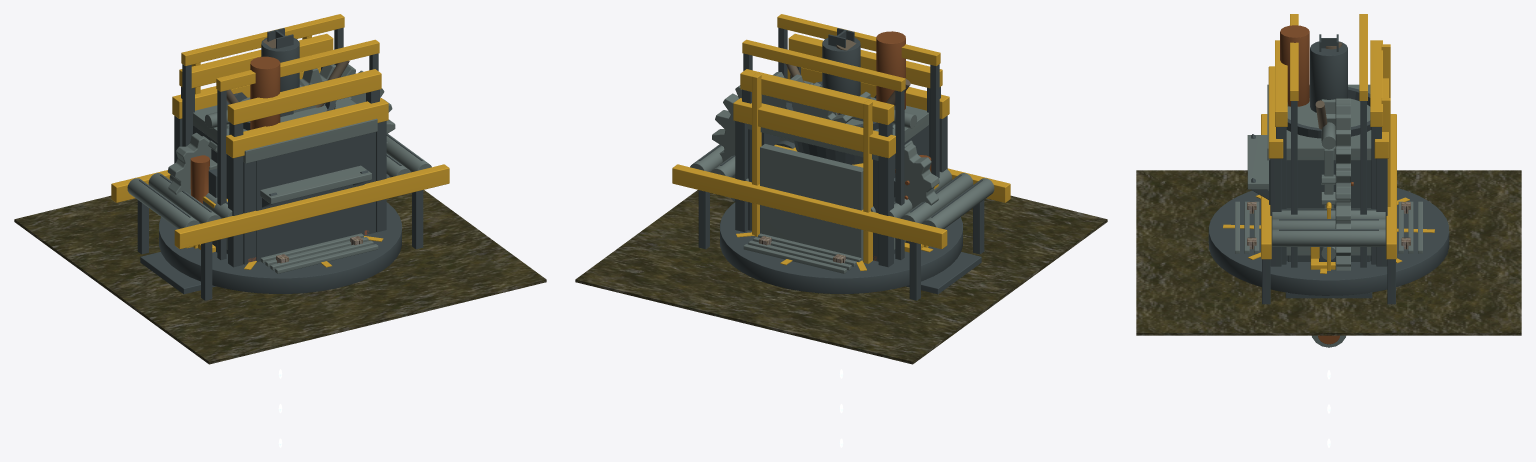
Rendered from factory_props.glb.
3 views of the same model, side by side, from view 1: azimuth 30°, elevation 25°; view 2: azimuth 150°, elevation 25°; view 3: azimuth 270°, elevation 25° (orthographic).
Parts seen in each view (by area): view 1: p_fac_water, p_fac_furnace, p_fac_conveyor, p_fac_platform:0, p_fac_ladle, p_fac_press, p_fac_hoist, p_fac_walkway, p_fac_stairs, p_fac_gear_pair, p_fac_conveyor:0, p_fac_gear_pair:1 (+4 smaller); view 2: p_fac_water, p_fac_conveyor, p_fac_ladle, p_fac_furnace:0, p_fac_platform:0, p_fac_hoist, p_fac_press, p_fac_furnace, p_fac_gear_pair:0, p_fac_walkway, p_fac_gear_pair:1, p_fac_conveyor:0 (+3 smaller); view 3: p_fac_water, p_fac_platform:0, p_fac_furnace, p_fac_press, p_fac_ladle, p_fac_hoist, p_fac_conveyor, p_fac_gear_pair:0, p_fac_conveyor:11, p_fac_walkway, p_fac_stairs, p_fac_conveyor:10 (+6 smaller).
Boxes of the visible parts, left/top/right/bottom form: p_fac_water: left=14, top=190, right=546, bottom=364; p_fac_furnace: left=191, top=35, right=377, bottom=264; p_fac_conveyor: left=111, top=164, right=449, bottom=300; p_fac_platform:0: left=159, top=202, right=401, bottom=293; p_fac_ladle: left=172, top=67, right=388, bottom=267; p_fac_press: left=179, top=33, right=381, bottom=249; p_fac_hoist: left=181, top=14, right=379, bottom=259; p_fac_walkway: left=260, top=233, right=378, bottom=273; p_fac_stairs: left=260, top=165, right=371, bottom=207; p_fac_gear_pair: left=140, top=168, right=227, bottom=294; p_fac_conveyor:0: left=127, top=178, right=199, bottom=228; p_fac_gear_pair:1: left=167, top=132, right=211, bottom=194; p_fac_water: left=575, top=190, right=1107, bottom=364; p_fac_conveyor: left=672, top=164, right=1010, bottom=300; p_fac_ladle: left=733, top=67, right=949, bottom=267; p_fac_furnace:0: left=760, top=144, right=863, bottom=260; p_fac_platform:0: left=720, top=202, right=962, bottom=293; p_fac_hoist: left=742, top=14, right=940, bottom=259; p_fac_press: left=740, top=33, right=942, bottom=249; p_fac_furnace: left=747, top=31, right=928, bottom=263; p_fac_gear_pair:0: left=712, top=72, right=852, bottom=201; p_fac_walkway: left=743, top=233, right=861, bottom=273; p_fac_gear_pair:1: left=894, top=143, right=939, bottom=208; p_fac_conveyor:0: left=922, top=178, right=994, bottom=228; p_fac_water: left=1136, top=170, right=1521, bottom=335; p_fac_platform:0: left=1208, top=188, right=1449, bottom=295; p_fac_furnace: left=1267, top=25, right=1390, bottom=261; p_fac_press: left=1275, top=40, right=1382, bottom=264; p_fac_ladle: left=1268, top=66, right=1389, bottom=266; p_fac_hoist: left=1290, top=14, right=1367, bottom=267; p_fac_conveyor: left=1261, top=114, right=1396, bottom=304; p_fac_gear_pair:0: left=1335, top=98, right=1353, bottom=270; p_fac_conveyor:11: left=1272, top=229, right=1385, bottom=246; p_fac_walkway: left=1235, top=201, right=1422, bottom=253; p_fac_stairs: left=1247, top=134, right=1268, bottom=199; p_fac_conveyor:10: left=1272, top=219, right=1385, bottom=228.
Size of the model in its own units: 4 by 4.69 by 4.
16 materials, 2 textured.
